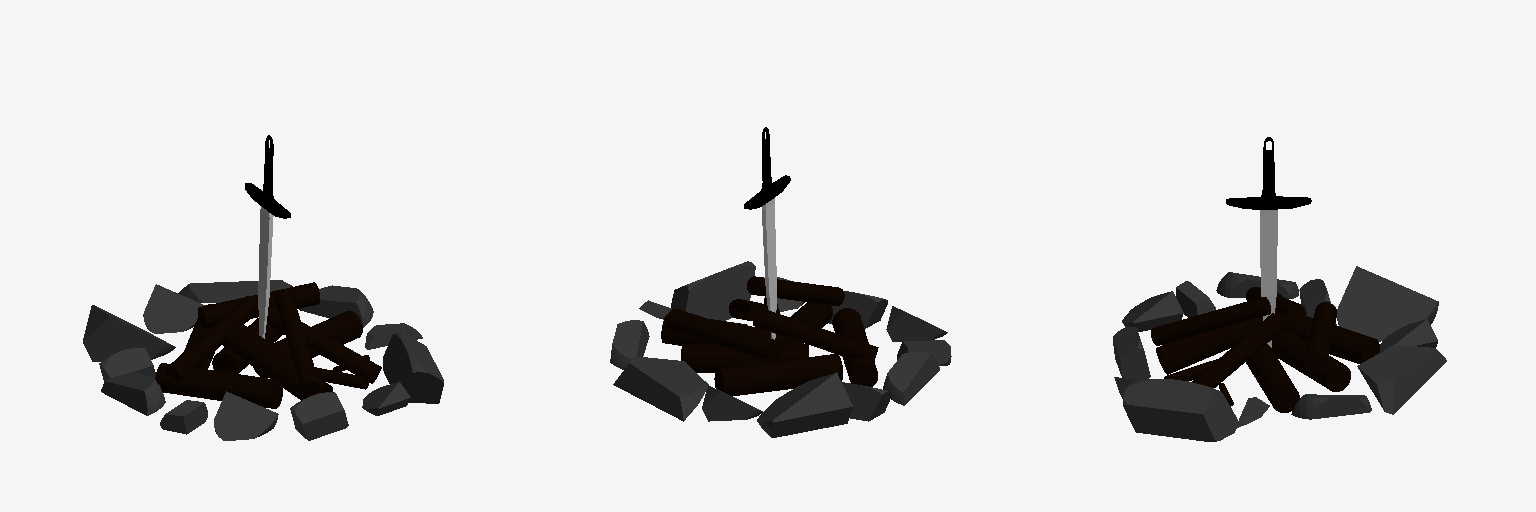
File: Campfire.obj
3 views of the same model, side by side, from view 1: azimuth 30°, elevation 25°; view 2: azimuth 150°, elevation 25°; view 3: azimuth 270°, elevation 25° (orthographic).
Parts seen in each view (by area): view 1: Rock; view 2: Rock; view 3: Rock.
Part boxes in pixels (x1,y1,x2,y2): Rock: (83,135,443,440); Rock: (610,127,951,437); Rock: (1113,137,1446,441).
Bounding box in the file's own units: 1.7 × 1.37 × 1.7.